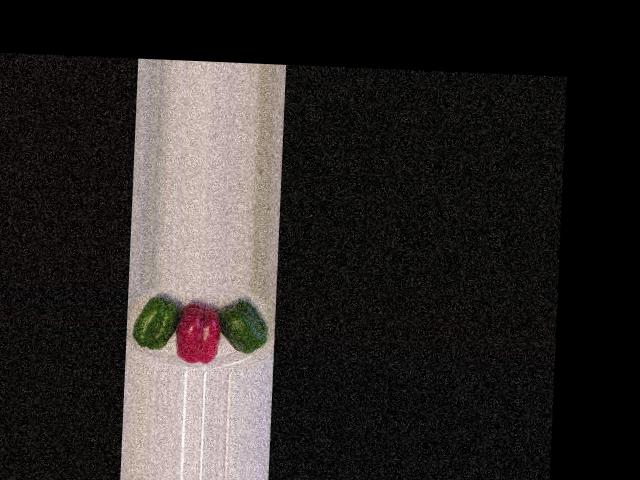bell_pepper: (216, 294, 272, 360)
